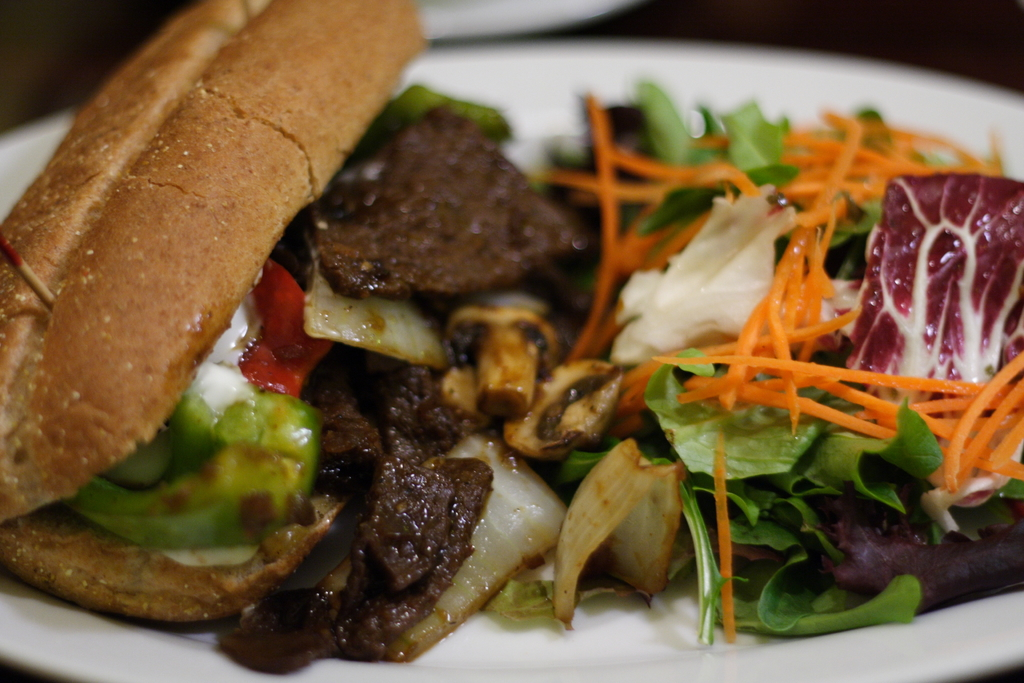Hamburger: (0, 0, 590, 673)
